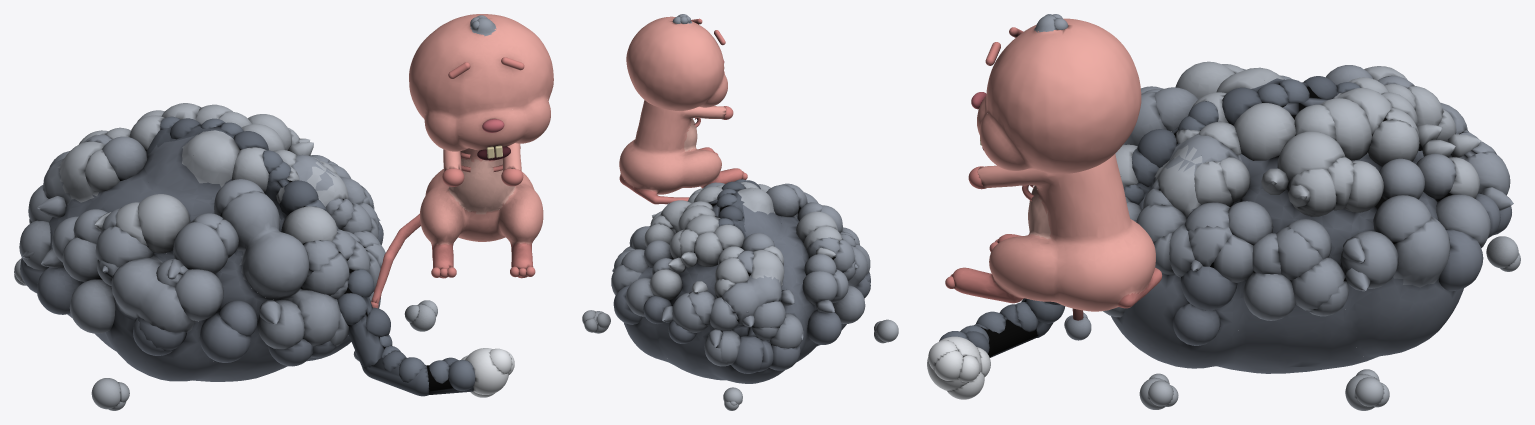
The model's file is ursakta-far-jag-komma-forbi.glb.
3 views of the same model, side by side, from view 1: azimuth 30°, elevation 25°; view 2: azimuth 150°, elevation 25°; view 3: azimuth 270°, elevation 25° (orthographic). The views are drawn at different scales.
Parts seen in each view (by area): view 1: pelo__r0, cabeca__r0, chinchila__r0, pelo__r23, pelo__r150, pelo__r146, pelo__r18, pelo__r129, pelo__r30, pelo__r90, pelo__r160, pelo__r110 (+32 smaller); view 2: pelo__r0, chinchila__r0, cabeca__r0, pelo__r110, pelo__r140, pelo__r166, pelo__r172, pelo__r146, pelo__r137, pelo__r121, pelo__r2, pelo__r151 (+28 smaller); view 3: pelo__r0, cabeca__r0, chinchila__r0, pelo__r123, pelo__r147, pelo__r61, pelo__r128, pelo__r124, pelo__r159, pelo__r127, pelo__r7, pelo__r132 (+43 smaller).
Boxes of the visible parts, bbox=[...] form: pelo__r0: bbox=[43, 103, 385, 381]; cabeca__r0: bbox=[409, 14, 553, 151]; chinchila__r0: bbox=[371, 143, 543, 303]; pelo__r23: bbox=[138, 194, 190, 253]; pelo__r150: bbox=[173, 222, 228, 273]; pelo__r146: bbox=[69, 279, 115, 333]; pelo__r18: bbox=[175, 269, 223, 320]; pelo__r129: bbox=[199, 312, 251, 362]; pelo__r30: bbox=[281, 206, 337, 243]; pelo__r90: bbox=[257, 299, 304, 349]; pelo__r160: bbox=[95, 226, 153, 267]; pelo__r110: bbox=[37, 267, 81, 314]; pelo__r0: bbox=[611, 182, 870, 383]; chinchila__r0: bbox=[619, 100, 743, 204]; cabeca__r0: bbox=[626, 14, 727, 110]; pelo__r110: bbox=[807, 309, 841, 344]; pelo__r140: bbox=[802, 271, 837, 305]; pelo__r166: bbox=[731, 336, 763, 373]; pelo__r172: bbox=[672, 292, 707, 332]; pelo__r146: bbox=[832, 285, 865, 323]; pelo__r137: bbox=[650, 269, 682, 300]; pelo__r121: bbox=[766, 185, 799, 216]; pelo__r2: bbox=[694, 232, 722, 266]; pelo__r151: bbox=[770, 313, 803, 348]; pelo__r0: bbox=[1021, 66, 1467, 373]; cabeca__r0: bbox=[977, 15, 1141, 173]; chinchila__r0: bbox=[952, 154, 1162, 311]; pelo__r123: bbox=[1233, 103, 1295, 160]; pelo__r147: bbox=[1277, 131, 1345, 189]; pelo__r61: bbox=[1243, 272, 1295, 320]; pelo__r128: bbox=[1320, 98, 1371, 160]; pelo__r124: bbox=[1340, 231, 1398, 288]; pelo__r159: bbox=[1373, 195, 1431, 244]; pelo__r127: bbox=[1439, 228, 1483, 291]; pelo__r7: bbox=[1436, 194, 1490, 247]; pelo__r132: bbox=[1291, 257, 1345, 311].
Size of the model in its own units: 2.41 by 2.1 by 2.57.
